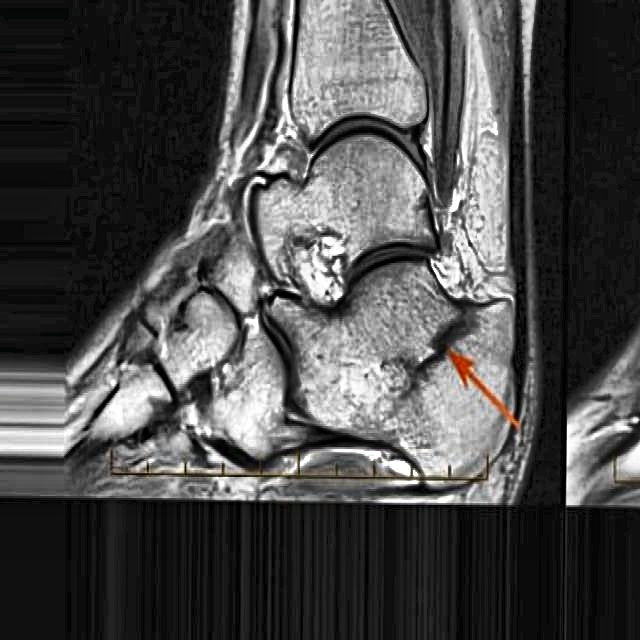Oblique Displaced: (398, 295, 485, 398)
